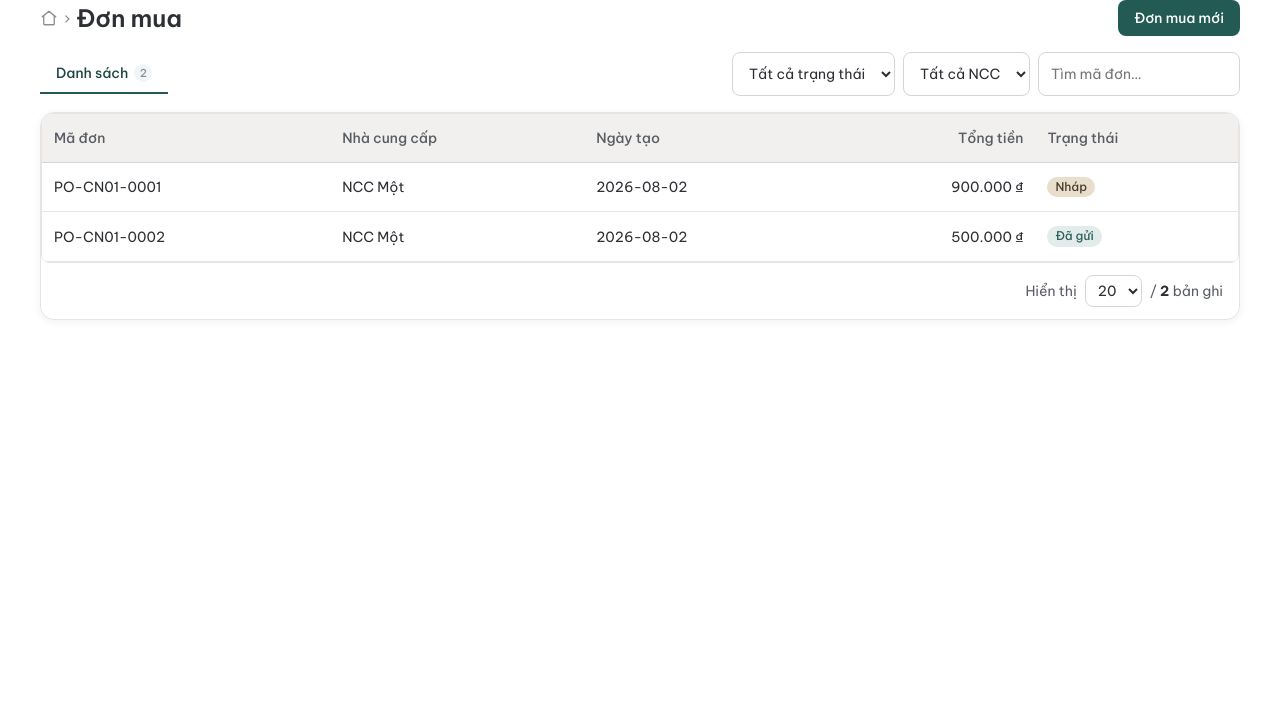
PurchaseOrdersPage › shows lifecycle actions for a DRAFT order in the detail drawer
Click the text "PO-CN01-0001" at (186, 187), box left=42, top=162, right=330, bottom=212
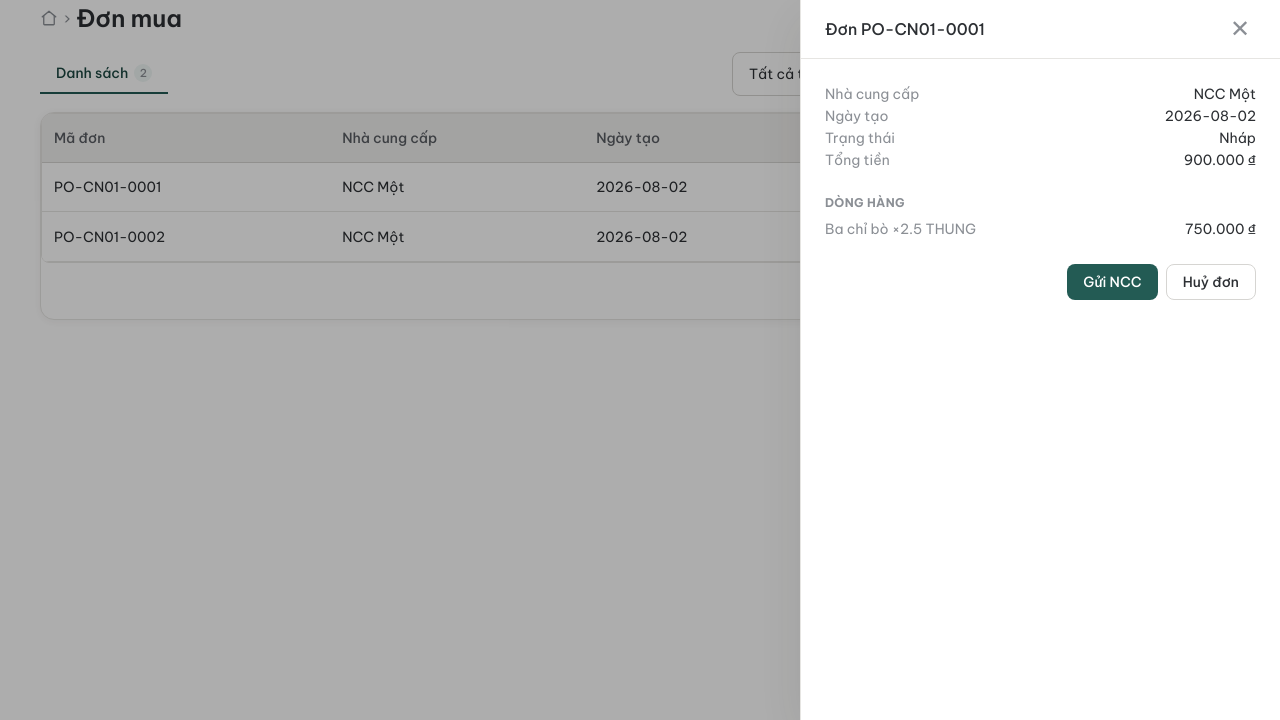
Check: the button "Gửi NCC" is shown, box left=1067, top=264, right=1158, bottom=300
Check: the button "Huỷ đơn" is shown, box left=1166, top=264, right=1256, bottom=300
